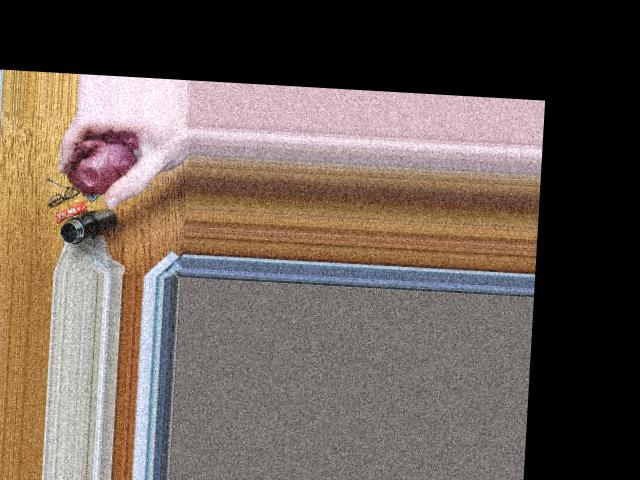onion: (56, 130, 143, 188)
